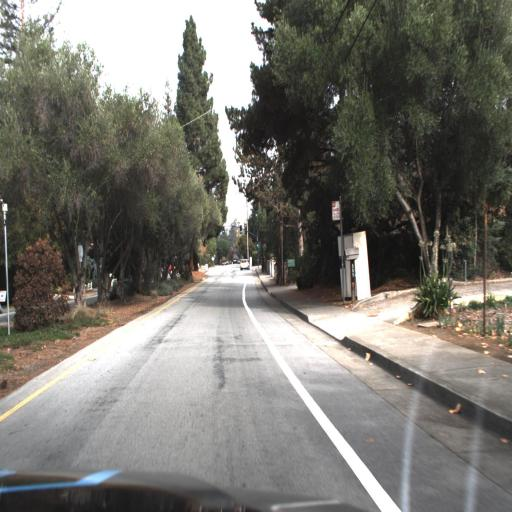car: (238, 253, 251, 272), (238, 257, 250, 272)
